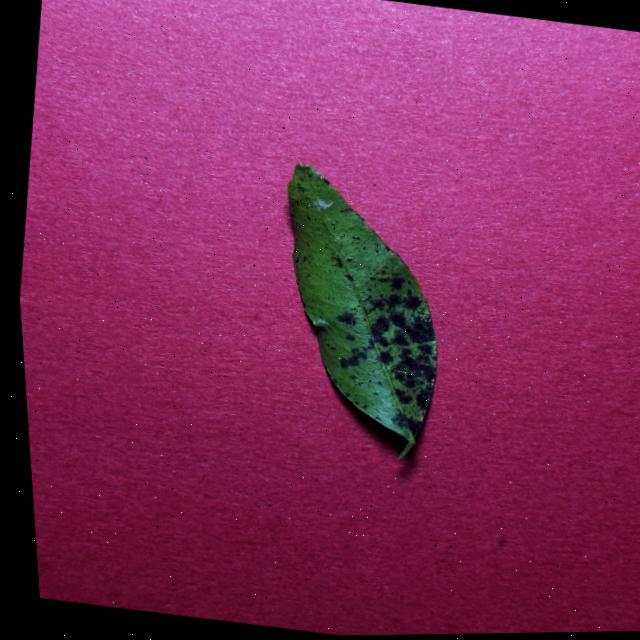sooty_mold: (288, 165, 437, 458)
